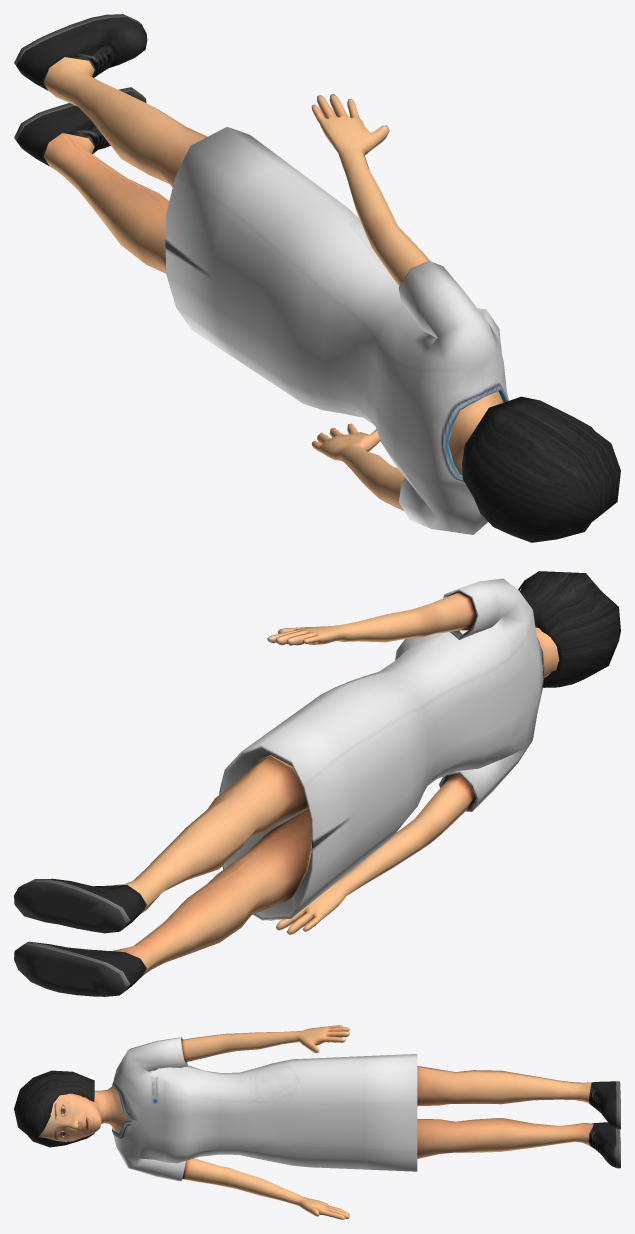
Rendered from nurse_standing.glb.
3 views of the same model, one above another, from view 1: azimuth 30°, elevation 25°; view 2: azimuth 150°, elevation 25°; view 3: azimuth 270°, elevation 25° (orthographic). The views are drawn at different scales.
Visible parts, largest first — view 1: world; view 2: world; view 3: world.
Boxes of the visible parts, box(x1,y1,x2,y2) form: world: box(14, 14, 620, 542); world: box(14, 571, 620, 996); world: box(14, 1025, 620, 1219).
Bounding box in the file's own units: 0.3055 × 0.5542 × 1.61.
1 material, 1 textured.
